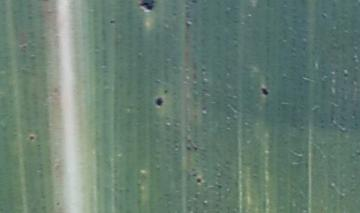tarspot: (139, 1, 156, 12), (155, 96, 163, 106), (260, 87, 269, 95), (29, 134, 36, 142), (185, 144, 192, 151), (109, 19, 116, 25), (196, 178, 202, 184), (163, 88, 168, 95), (190, 1, 198, 4), (194, 146, 198, 151)
